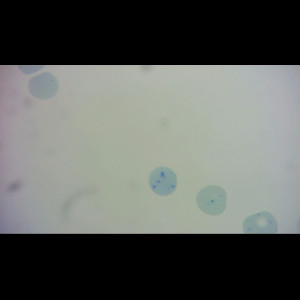aggregate reticulocyte: (147, 166, 179, 197)
punctate reticulocyte: (195, 184, 228, 217), (25, 72, 60, 100)
